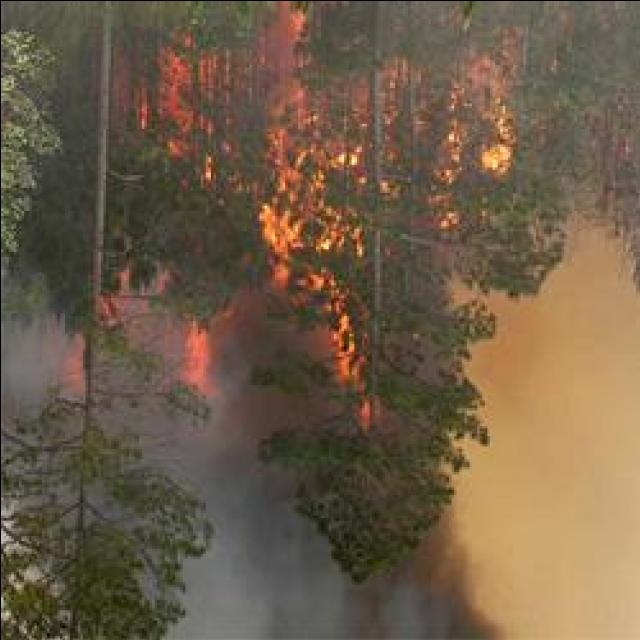fire: (180, 327, 210, 382)
smoke: (338, 581, 510, 639), (246, 530, 318, 632), (428, 520, 506, 608), (212, 330, 253, 484), (216, 477, 280, 557), (0, 338, 49, 392)
